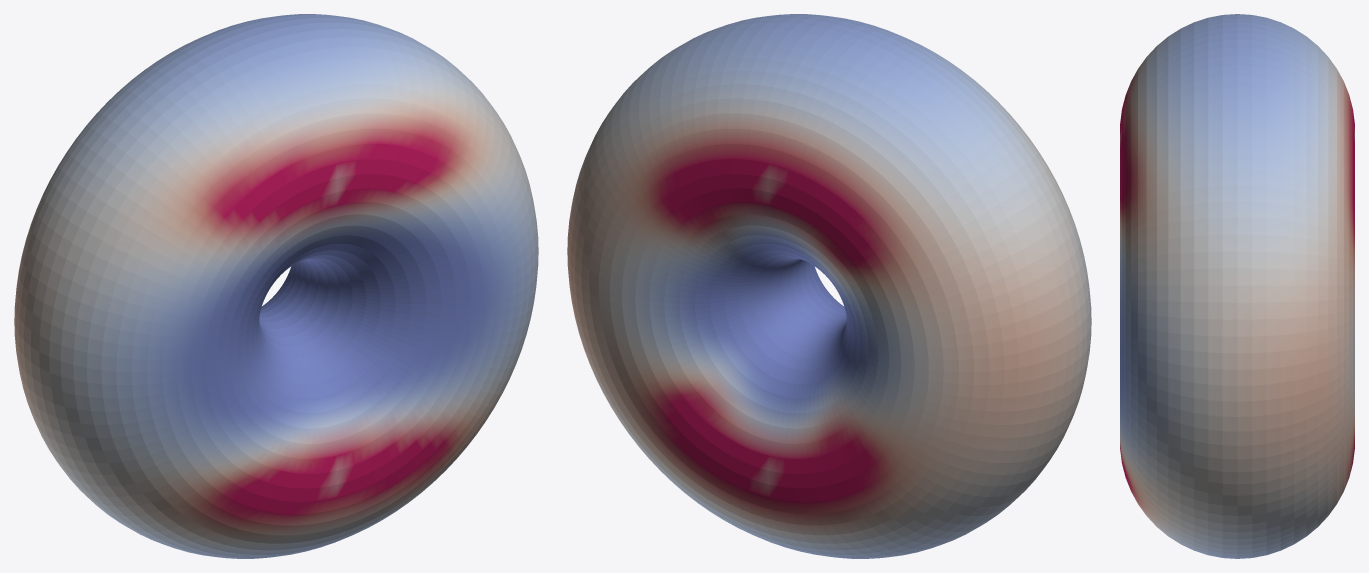
3 views of the same model, side by side, from view 1: azimuth 30°, elevation 25°; view 2: azimuth 150°, elevation 25°; view 3: azimuth 270°, elevation 25° (orthographic). The views are drawn at different scales.
Visible parts, largest first — view 1: world; view 2: world; view 3: world.
Boxes of the visible parts, left/top/right/bottom form: world: left=14, top=14, right=538, bottom=558; world: left=567, top=14, right=1091, bottom=558; world: left=1120, top=14, right=1354, bottom=558.
Size of the model in its own units: 17.6 by 17.6 by 7.59.
